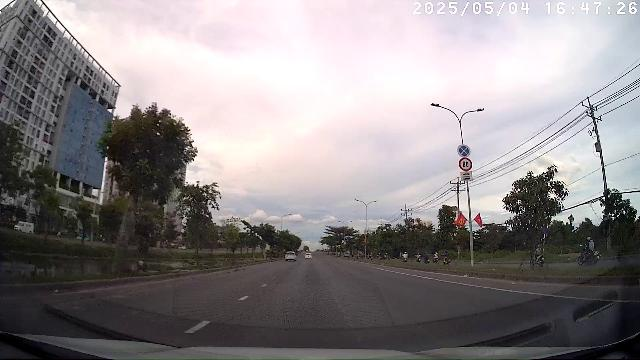127-toc-do-toi-da-80: (459, 157, 473, 171)
